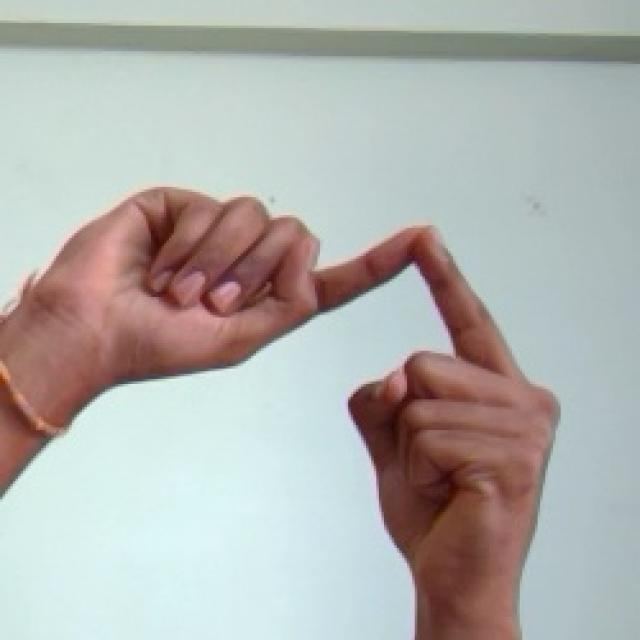Alphabet-E: (0, 187, 561, 639)
